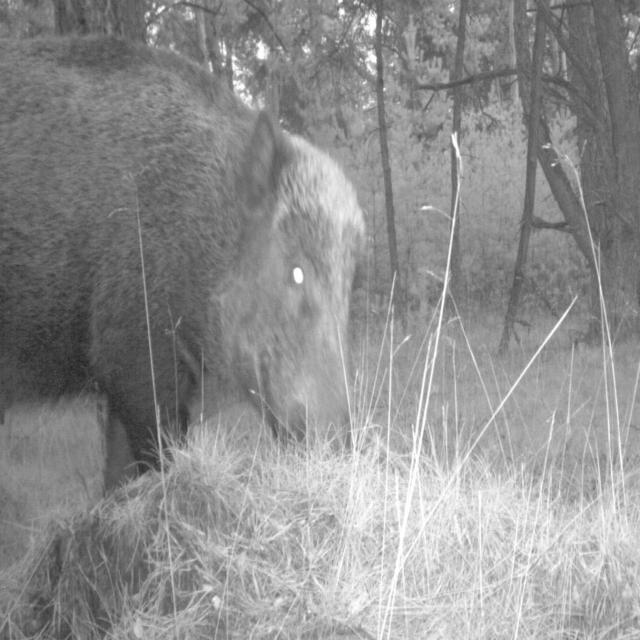pig: (0, 0, 384, 539)
